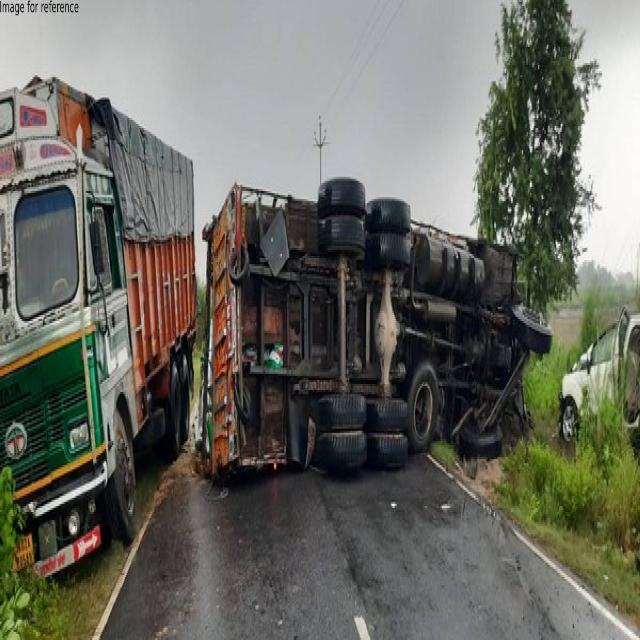accident: (201, 179, 551, 477)
truck: (0, 79, 195, 575)
